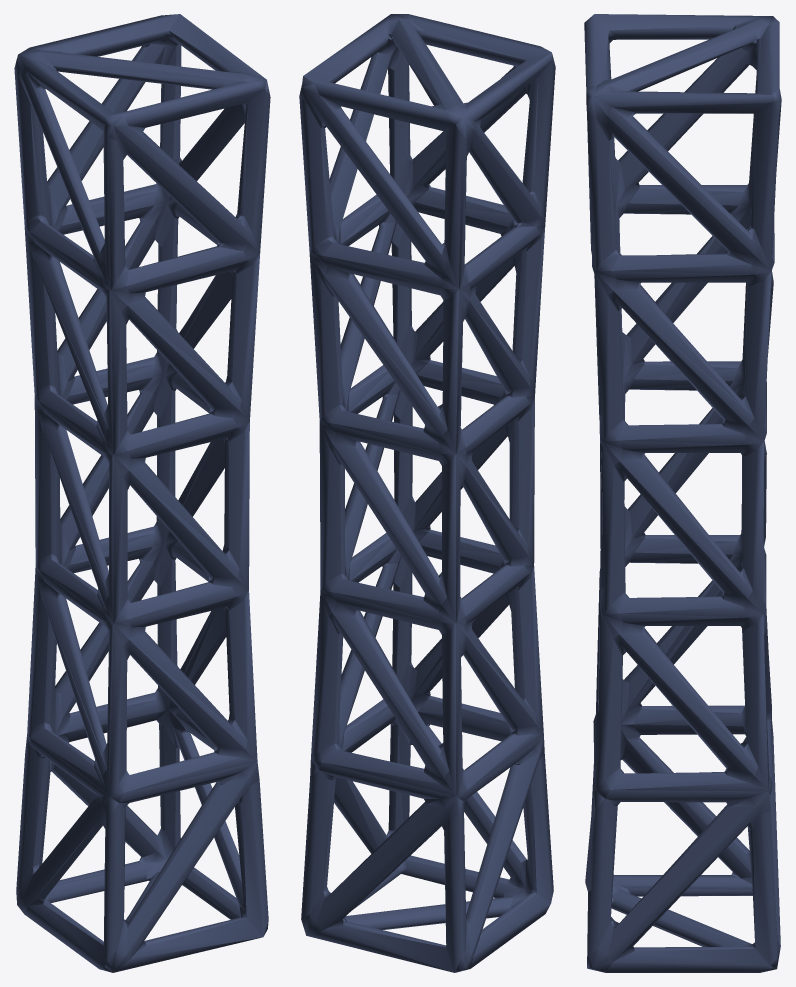
File: SM_Construction_Sign.fbx
3 views of the same model, side by side, from view 1: azimuth 30°, elevation 25°; view 2: azimuth 150°, elevation 25°; view 3: azimuth 270°, elevation 25° (orthographic). The views are drawn at different scales.
Visible parts, largest first — view 1: SM_Construction_Sign; view 2: SM_Construction_Sign; view 3: SM_Construction_Sign.
Part boxes in pixels (x1,y1,x2,y2): SM_Construction_Sign: (14, 14, 270, 972); SM_Construction_Sign: (299, 14, 555, 972); SM_Construction_Sign: (584, 14, 781, 972).
Size of the model in its own units: 208 by 1021 by 207.
